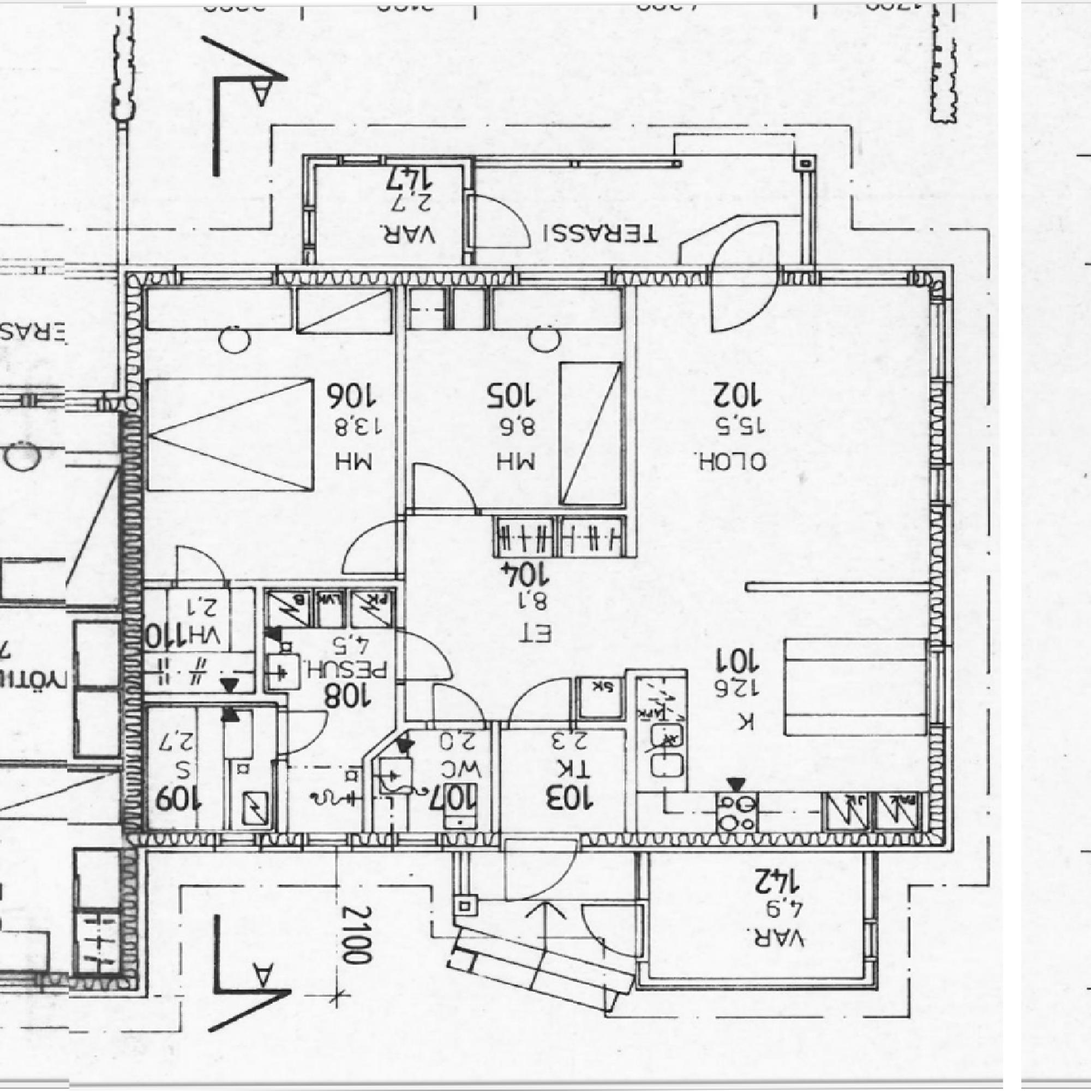wall: (929, 265, 953, 852), (119, 265, 143, 852), (119, 831, 650, 852), (462, 265, 954, 286), (635, 831, 877, 852), (396, 286, 407, 726), (119, 265, 315, 286), (303, 265, 474, 286), (635, 977, 877, 989), (626, 286, 637, 516), (143, 579, 396, 589), (404, 719, 636, 729), (636, 832, 650, 989), (863, 832, 877, 989), (406, 507, 637, 516), (863, 831, 954, 852), (362, 719, 409, 759), (303, 155, 474, 165), (747, 582, 929, 591), (303, 154, 315, 286), (462, 154, 474, 286), (277, 692, 288, 832), (625, 719, 636, 832), (253, 588, 264, 701), (142, 692, 264, 702), (491, 729, 502, 832), (362, 755, 374, 831), (625, 667, 636, 729), (625, 667, 688, 677), (626, 506, 637, 557), (253, 692, 288, 702)
